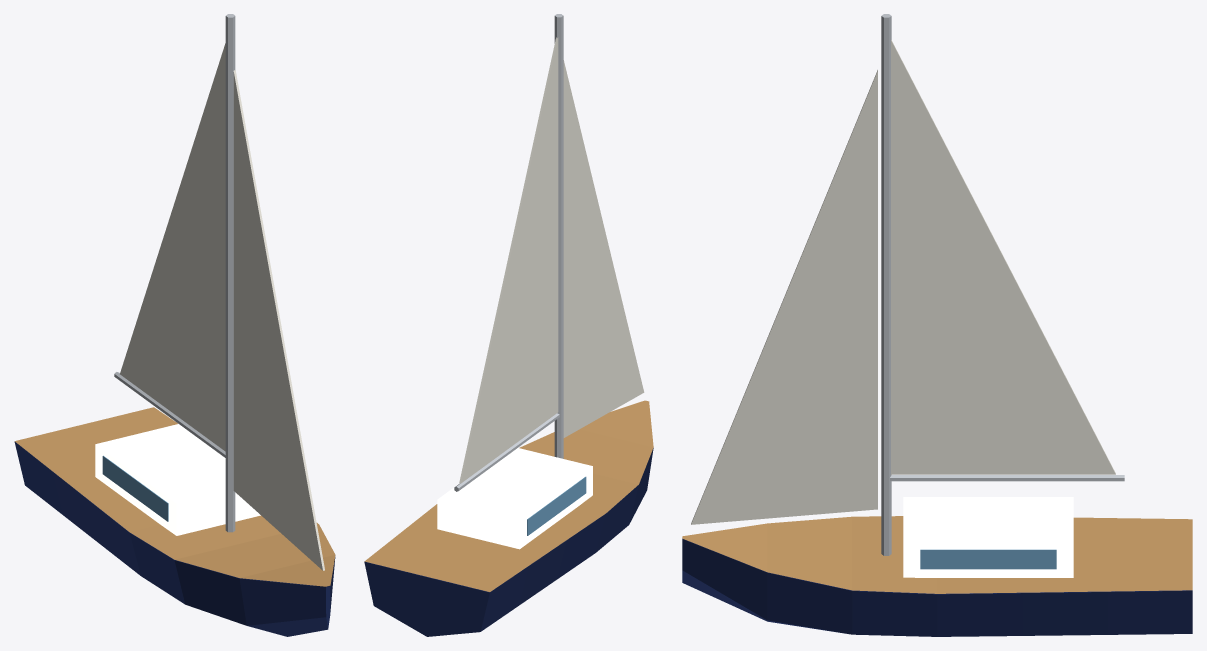
Rendered from sailboat.glb.
The picture shows the model from 3 angles, left to right: view 1: azimuth 30°, elevation 25°; view 2: azimuth 150°, elevation 25°; view 3: azimuth 270°, elevation 25°; orthographic projection. The views are drawn at different scales.
Parts seen in each view (by area): view 1: sailboat; view 2: sailboat; view 3: sailboat.
Part boxes in pixels (left/top/right/bottom): sailboat: left=14, top=14, right=335, bottom=636; sailboat: left=364, top=14, right=653, bottom=636; sailboat: left=682, top=14, right=1192, bottom=636.
Size of the model in its own units: 2.18 by 7.9 by 6.
